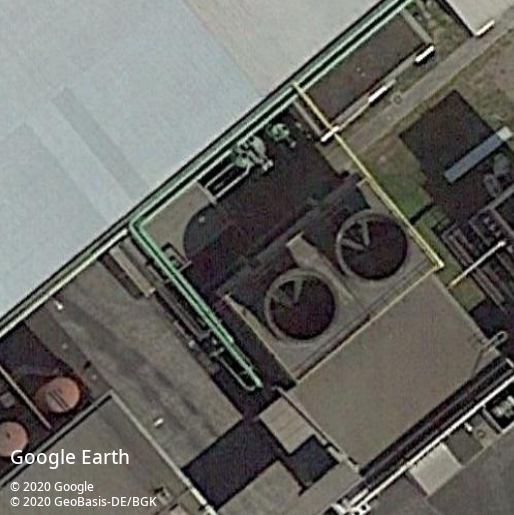Vent: (265, 267, 341, 346), (335, 209, 411, 287)
